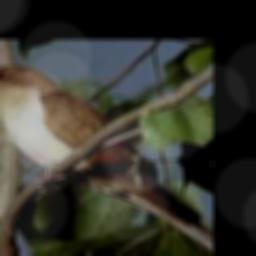Cuckoo: (0, 65, 213, 248)
